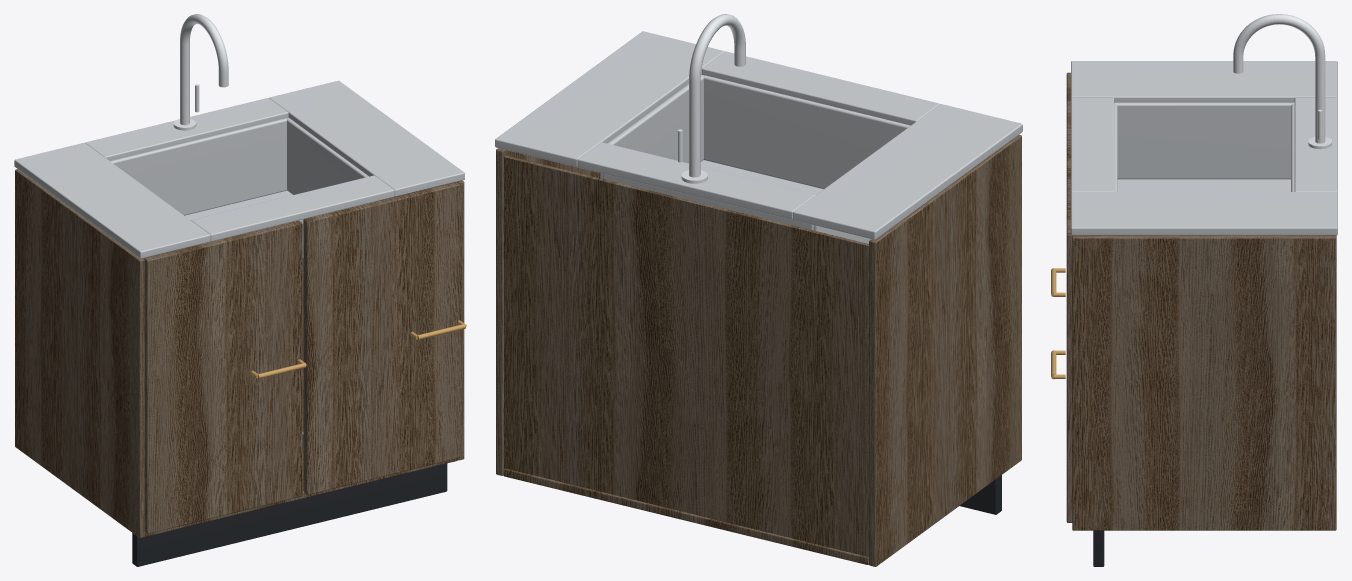
Rendered from detail-kitchen-sink.glb.
3 renders of one model, left to right at view 1: azimuth 30°, elevation 25°; view 2: azimuth 150°, elevation 25°; view 3: azimuth 270°, elevation 25°, orthographic. The views are drawn at different scales.
Parts seen in each view (by area): view 1: 平板柜门.001, 平板柜门, 左侧板, 成型盆壁.003, 水槽左右台面, 水槽左右台面.001, 踢脚空间背衬, 水槽前后台面, 水槽前后台面.001, 成型盆壁.001, 高抛弯管水龙头, 底板 (+2 smaller); view 2: 嵌入式背板, 左侧板, 成型盆壁.002, 水槽左右台面, 水槽左右台面.001, 水槽前后台面.001, 水槽前后台面, 成型盆壁.001, 底板, 右侧板, 高抛弯管水龙头, 成型盆壁.003 (+2 smaller); view 3: 右侧板, 成型盆壁, 水槽左右台面.001, 水槽左右台面, 水槽前后台面, 水槽前后台面.001, 平板柜门.001, 高抛弯管水龙头, 水槽盆底, 踢脚空间背衬, 平板柜门.
Boxes of the visible parts, x1,y1,x2,y2 form: 平板柜门.001: (303, 181, 462, 494); 平板柜门: (144, 220, 302, 533); 左侧板: (15, 169, 145, 538); 成型盆壁.003: (110, 118, 286, 215); 水槽左右台面: (14, 142, 210, 258); 水槽左右台面.001: (269, 80, 464, 196); 踢脚空间背衬: (132, 463, 447, 566); 水槽前后台面: (191, 175, 394, 241); 水槽前后台面.001: (85, 98, 288, 160); 成型盆壁.001: (287, 118, 368, 194); 高抛弯管水龙头: (180, 14, 228, 125); 底板: (145, 373, 457, 536); 嵌入式背板: (504, 155, 868, 557); 左侧板: (869, 135, 1021, 566); 成型盆壁.002: (703, 75, 910, 189); 水槽左右台面: (793, 104, 1022, 239); 水槽左右台面.001: (495, 31, 724, 167); 水槽前后台面.001: (577, 142, 815, 219); 水槽前后台面: (702, 51, 939, 125); 成型盆壁.001: (600, 75, 703, 178); 底板: (503, 468, 868, 564); 右侧板: (496, 148, 599, 475); 高抛弯管水龙头: (689, 14, 745, 177); 成型盆壁.003: (602, 173, 813, 230); 右侧板: (1072, 235, 1336, 530); 成型盆壁: (1114, 102, 1294, 179); 水槽左右台面.001: (1071, 192, 1337, 235); 水槽左右台面: (1071, 61, 1337, 102); 水槽前后台面: (1071, 97, 1113, 192); 水槽前后台面.001: (1294, 97, 1337, 192); 平板柜门.001: (1066, 154, 1072, 522); 高抛弯管水龙头: (1233, 14, 1325, 143); 水槽盆底: (1117, 179, 1290, 191); 踢脚空间背衬: (1093, 530, 1104, 566); 平板柜门: (1066, 72, 1070, 155).
Bounding box in the file's own units: 0.9 × 1.18 × 0.651.
5 materials, 1 textured.
